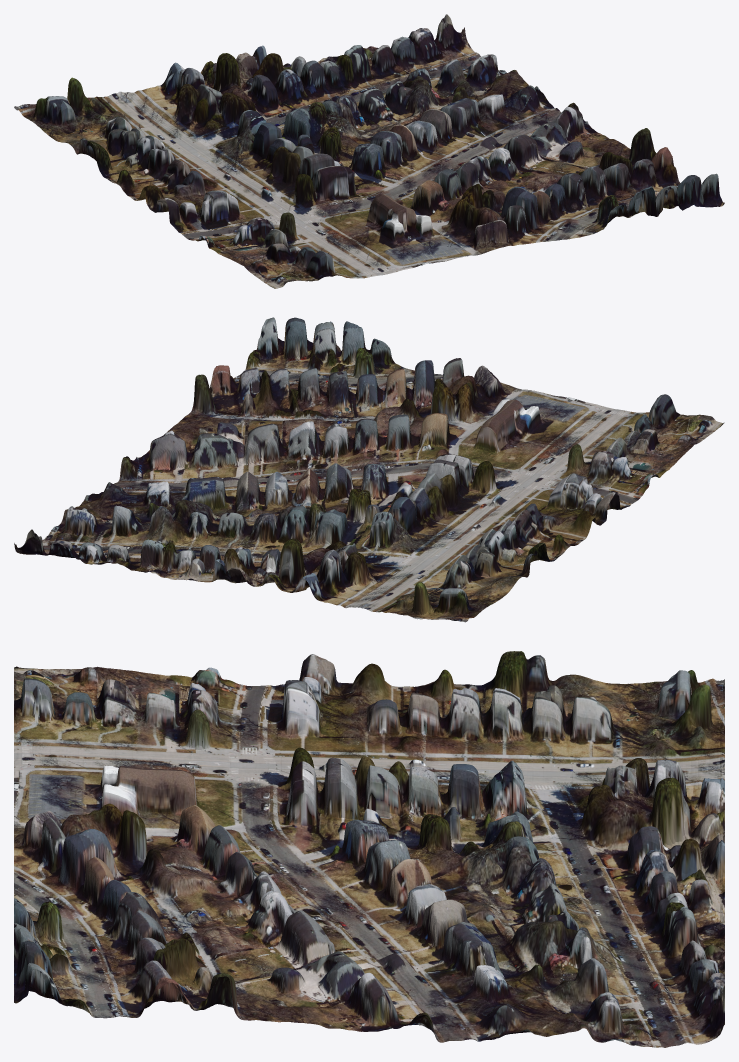
The model's file is terrain-lod0.glb.
3 renders of one model, top to bottom at view 1: azimuth 30°, elevation 25°; view 2: azimuth 150°, elevation 25°; view 3: azimuth 270°, elevation 25°, orthographic. The views are drawn at different scales.
Visible parts, largest first — view 1: geometry_0; view 2: geometry_0; view 3: geometry_0.
Boxes of the visible parts, <box> form: geometry_0: <box>14,14,724,288</box>; geometry_0: <box>14,317,724,622</box>; geometry_0: <box>14,651,724,1047</box>.
Bounding box in the file's own units: 1023 × 167 × 1023.
1 material, 1 textured.
